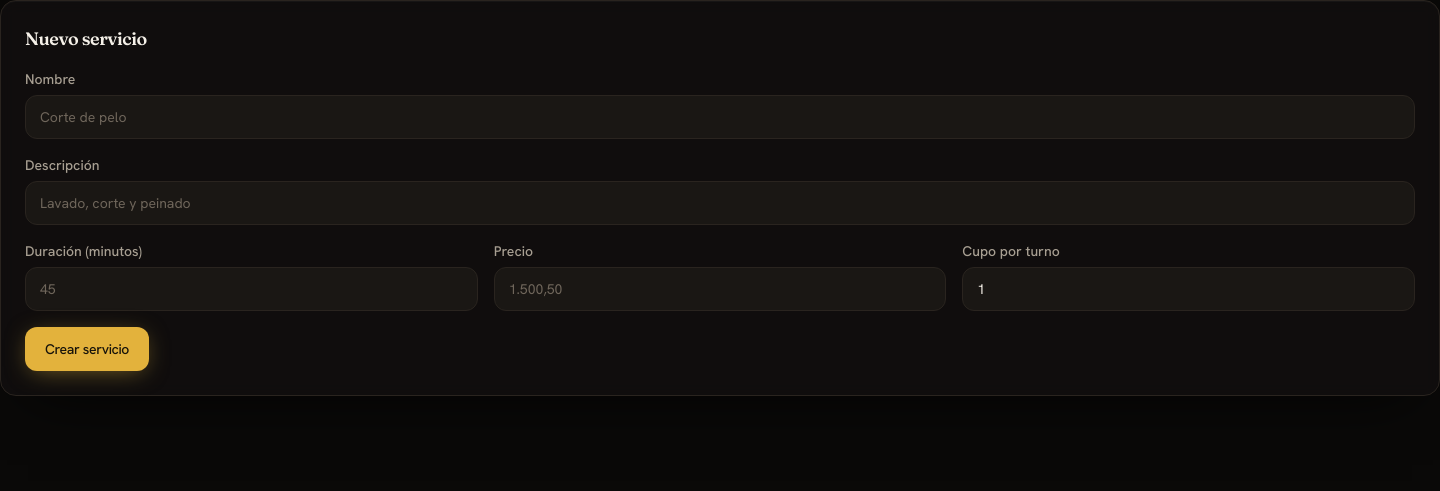
Test: ServiceForm › shows the general message and the per-field errors returned by the action
Click the button "Crear servicio": (87,349) [25, 327, 149, 371]
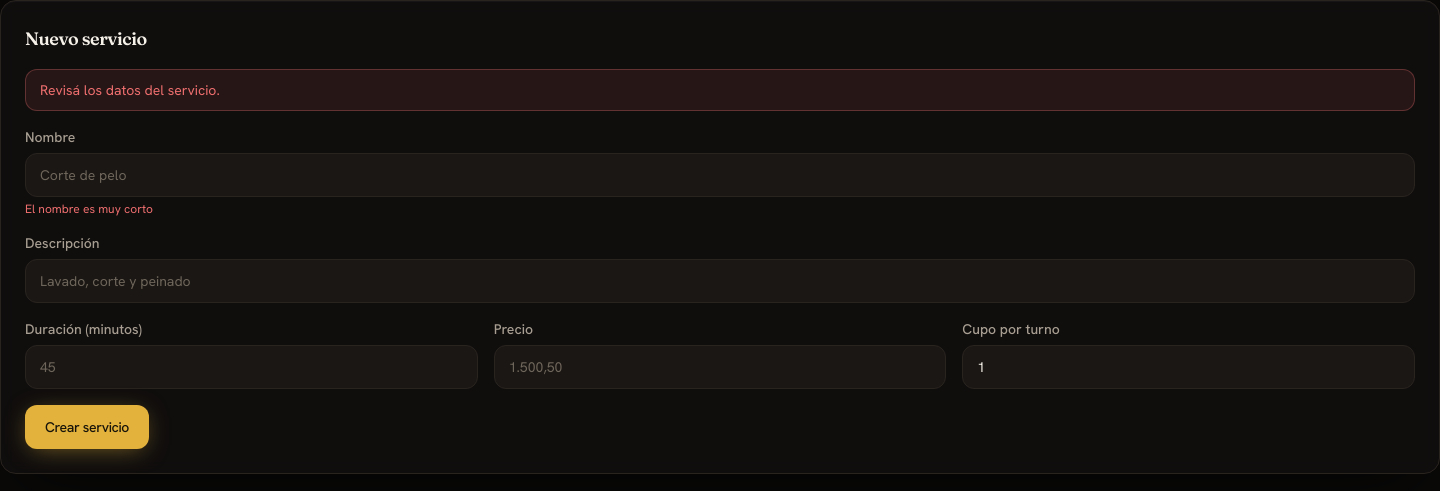
Expected: the text "Revisá los datos del servicio." is shown, [25, 69, 1415, 111]
Expected: the text "El nombre es muy corto" is shown, [25, 201, 153, 217]
